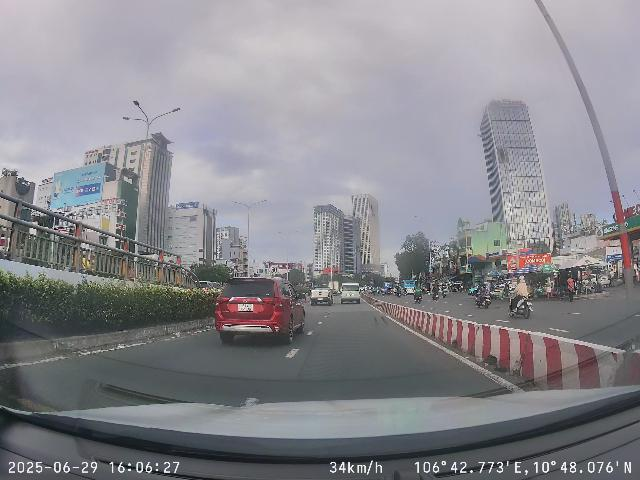134-het-han-che-toc-do-toi-da: (269, 264, 279, 275)
